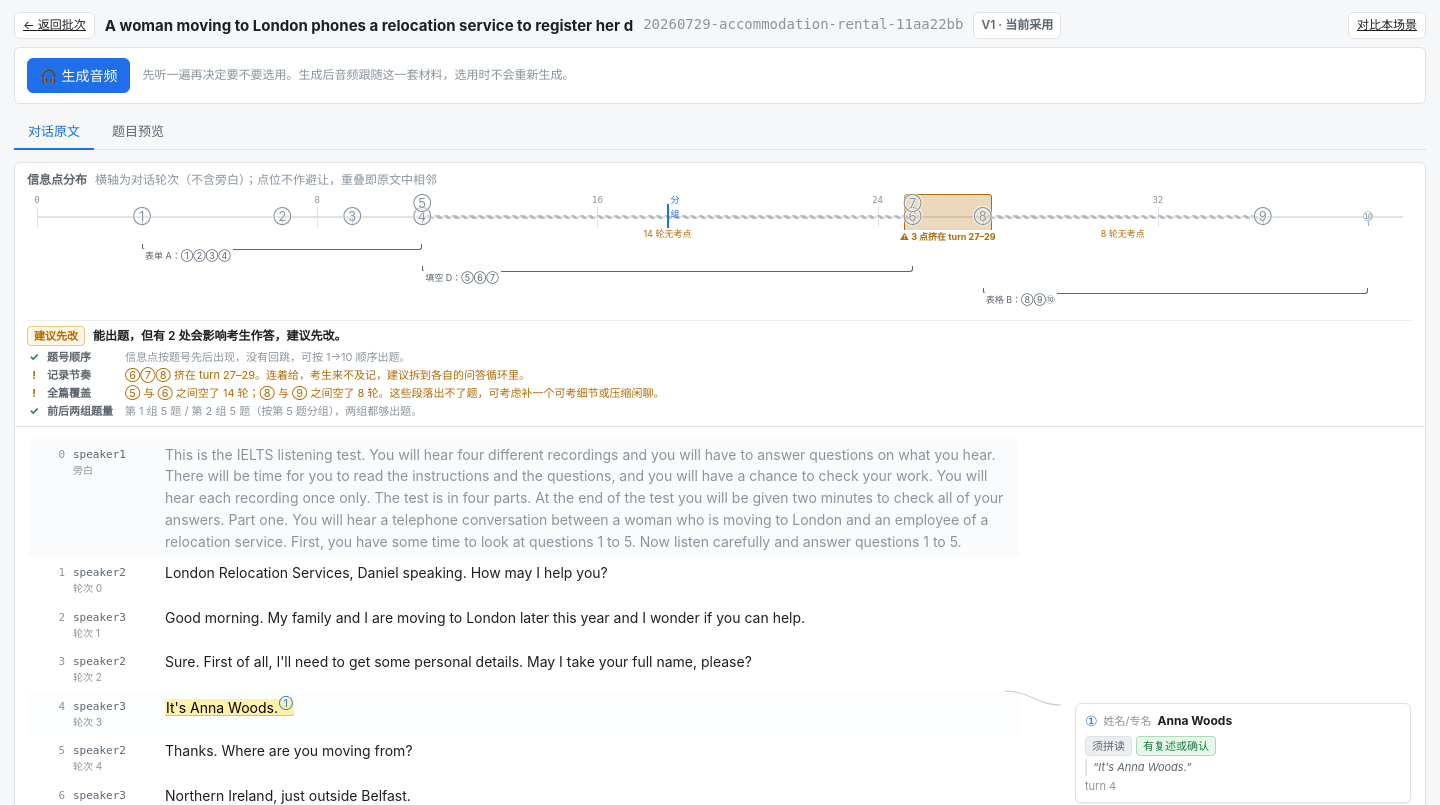
Test: MaterialPage 音频 › offers 生成音频 before any audio exists, and shows progress after the click
Click the button "🎧 生成音频".
click(79, 75)  # box x1=27 y1=58 x2=130 y2=93
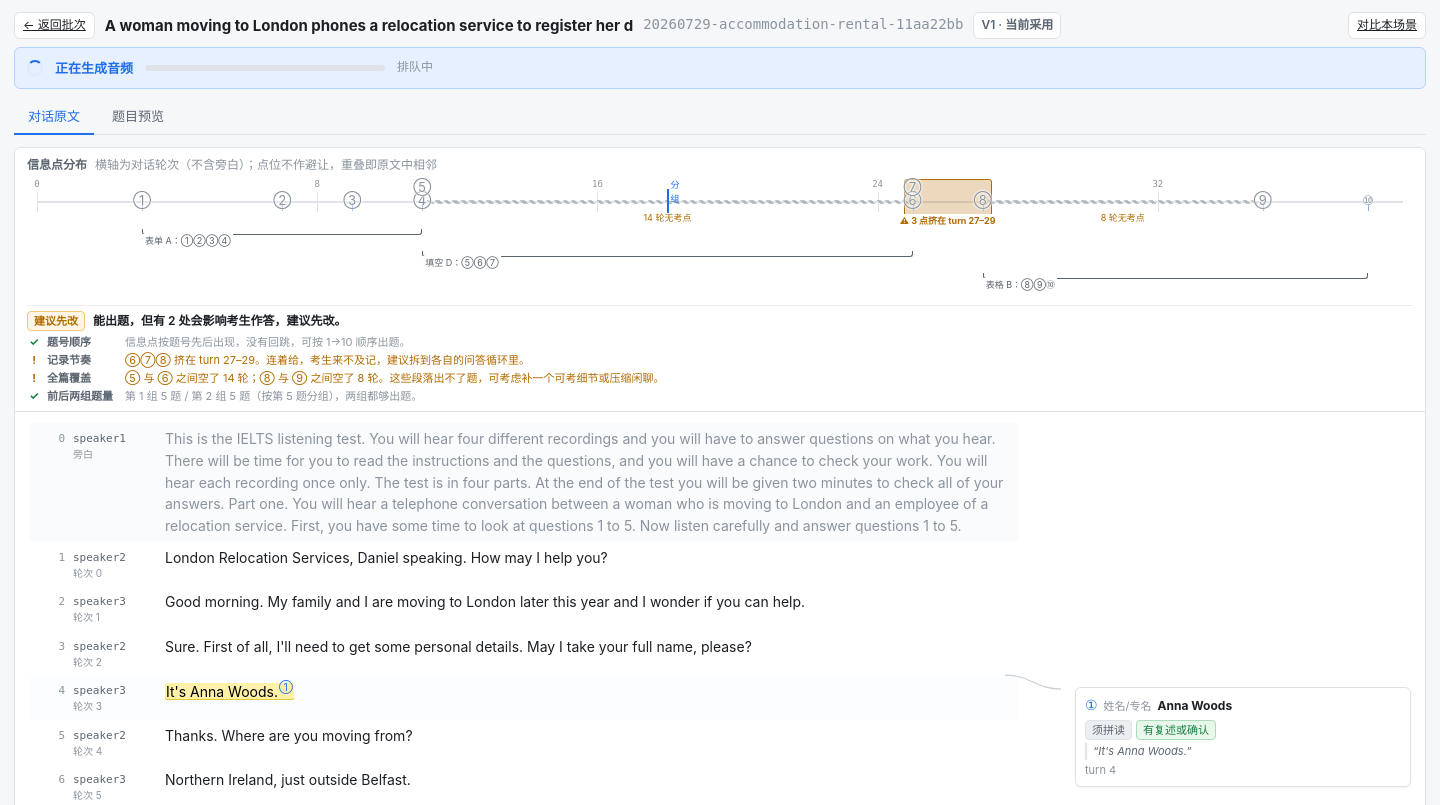
Now the text "正在生成音频" is shown, box x1=55 y1=58 x2=133 y2=78
